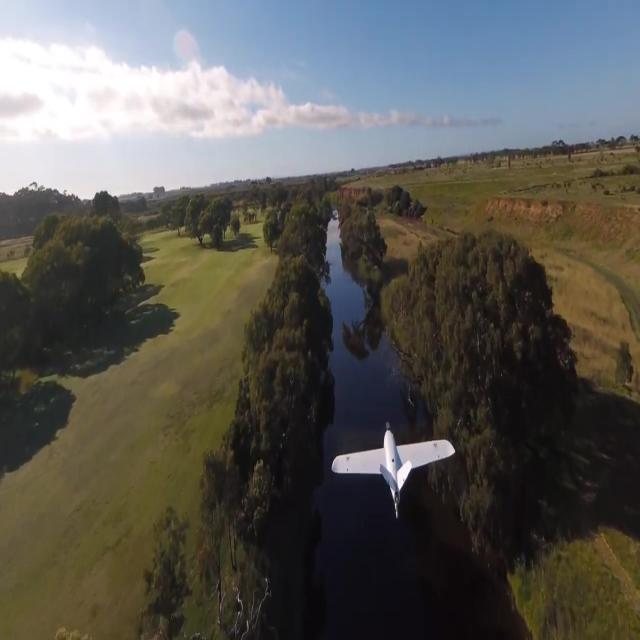iha: (356, 452, 417, 491)
